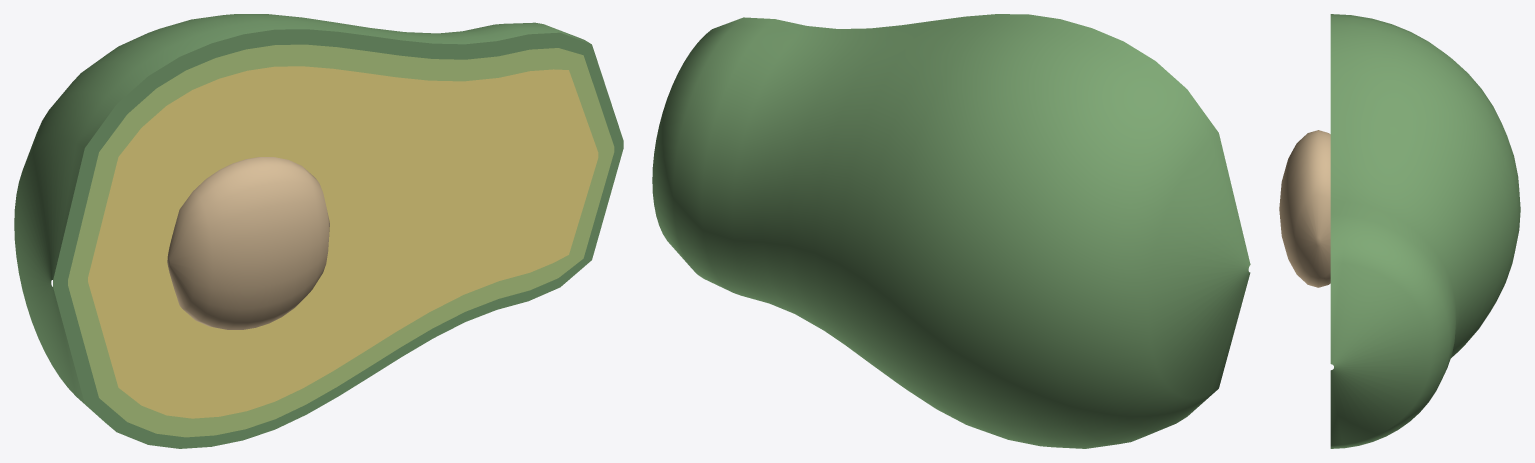
Rendered from fresh-produce-and-groceries-avocado-half-3ddf6d1a__24340.glb.
The picture shows the model from 3 angles, left to right: view 1: azimuth 30°, elevation 25°; view 2: azimuth 150°, elevation 25°; view 3: azimuth 270°, elevation 25°; orthographic projection. The views are drawn at different scales.
Visible parts, largest first — view 1: avocado-half; view 2: avocado-half; view 3: avocado-half.
Boxes of the visible parts, x1,y1,x2,y2 form: avocado-half: (14,14,623,448); avocado-half: (652,14,1250,448); avocado-half: (1279,14,1520,448).
Bounding box in the file's own units: 0.1 × 0.068 × 0.0432.
